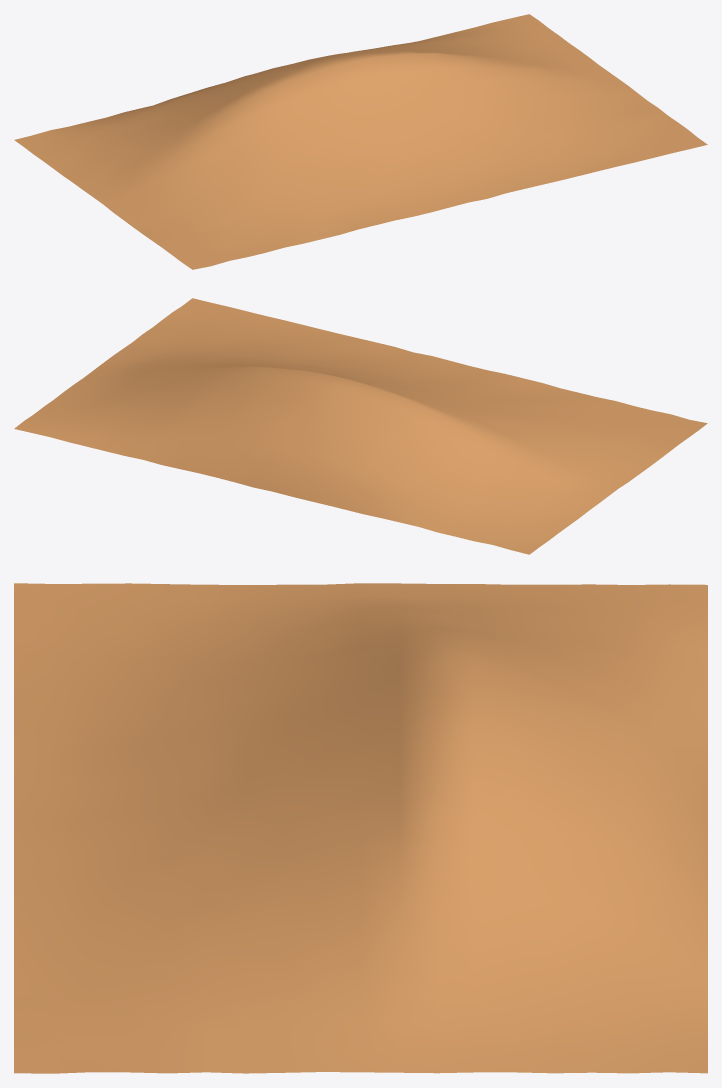
The model's file is dune_sanddune_b.glb.
3 renders of one model, top to bottom at view 1: azimuth 30°, elevation 25°; view 2: azimuth 150°, elevation 25°; view 3: azimuth 270°, elevation 25°, orthographic. The views are drawn at different scales.
Parts seen in each view (by area): view 1: DuneB; view 2: DuneB; view 3: DuneB.
Part boxes in pixels (left/top/right/bottom): DuneB: left=14, top=14, right=707, bottom=269; DuneB: left=14, top=298, right=707, bottom=554; DuneB: left=14, top=583, right=707, bottom=1073.
Size of the model in its own units: 50 by 5.86 by 30.
